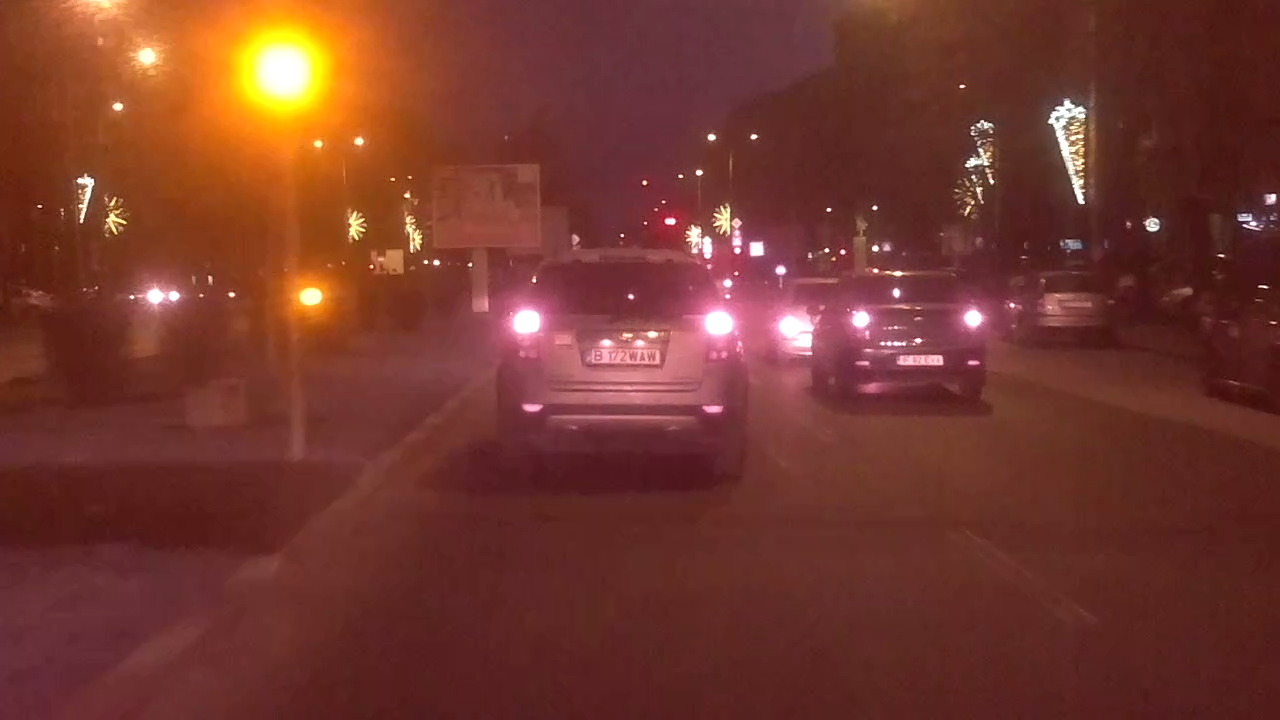license-plate: (583, 346, 662, 367)
